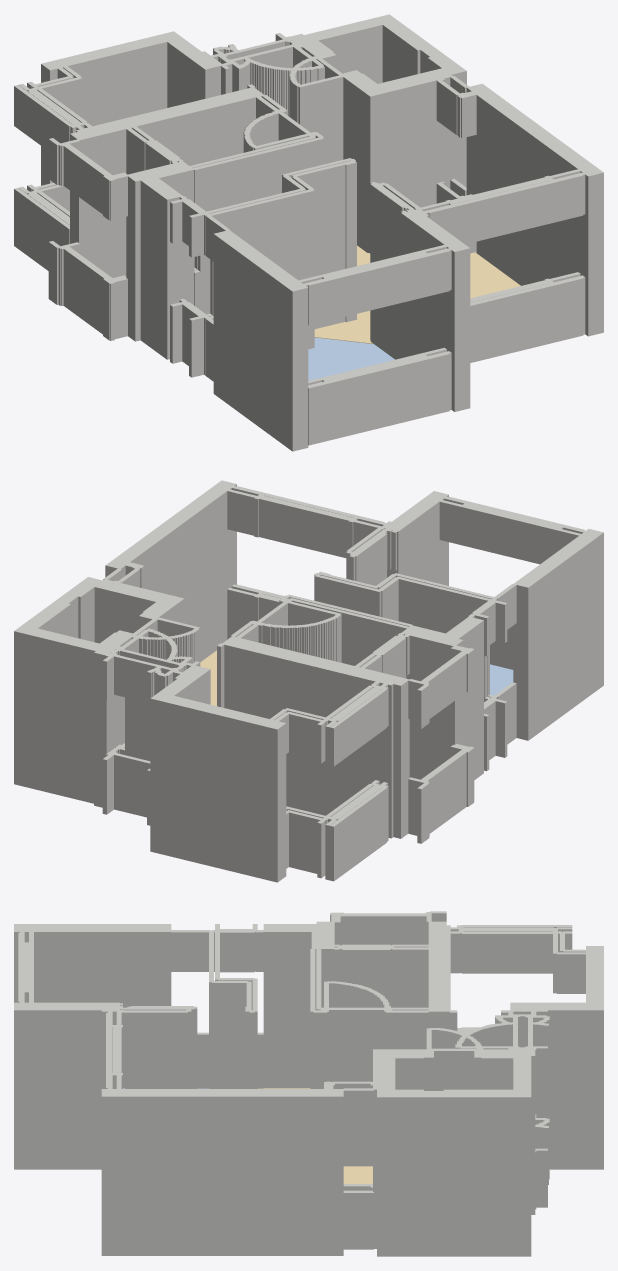
3 renders of one model, top to bottom at view 1: azimuth 30°, elevation 25°; view 2: azimuth 150°, elevation 25°; view 3: azimuth 270°, elevation 25°, orthographic. The views are drawn at different scales.
Parts seen in each view (by area): view 1: walls, room:living:3, room:bedroom:4; view 2: walls, room:bedroom:4; view 3: walls, room:living:3.
Part boxes in pixels (box(x1,y1,x2,y2)): walls: box(14, 14, 603, 451); room:living:3: box(314, 245, 520, 343); room:bedroom:4: box(308, 337, 394, 380); walls: box(14, 480, 603, 882); room:bedroom:4: box(490, 664, 513, 695); walls: box(14, 911, 603, 1256); room:living:3: box(258, 1088, 372, 1183).
Bounding box in the file's own units: 7.02 × 2.8 × 9.4.
